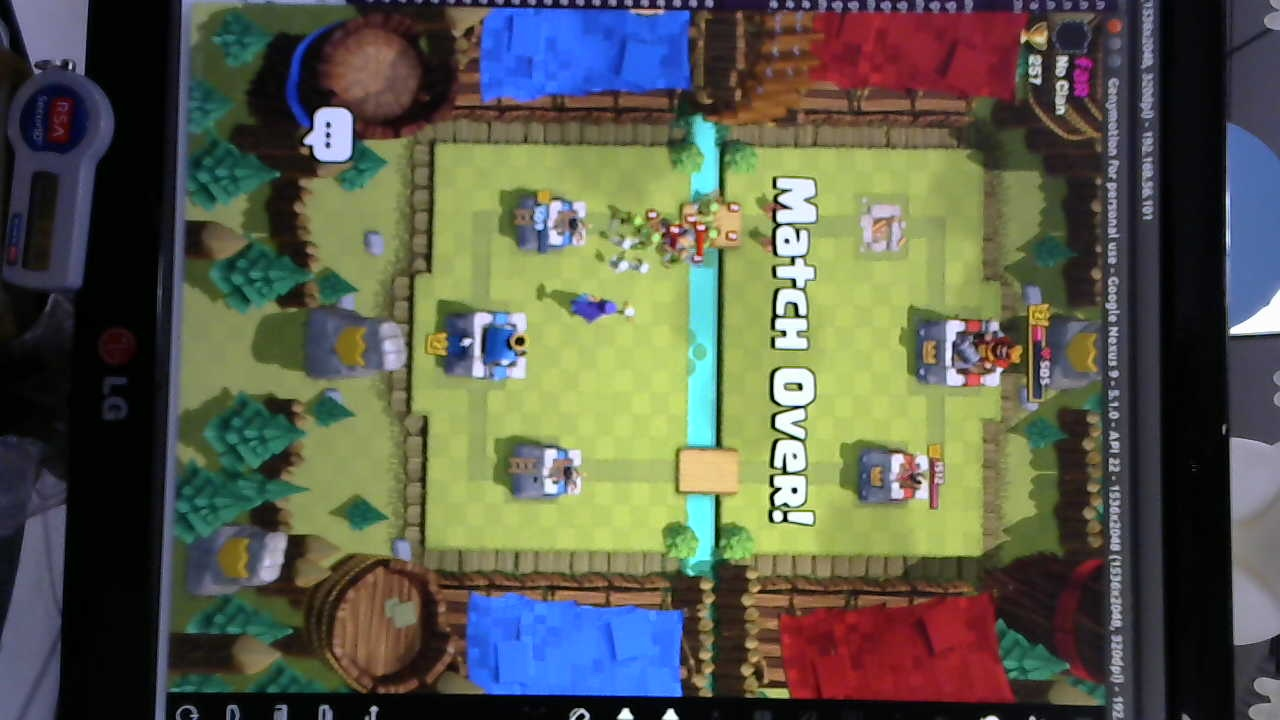arena: (507, 440, 589, 506), (511, 190, 591, 256)
darena: (847, 191, 909, 260)
earena: (857, 442, 942, 506)
eking: (912, 311, 1017, 389)
king: (440, 305, 532, 382)
knight: (658, 223, 699, 259)
skeleton: (614, 236, 650, 278)
speargoblins: (624, 195, 726, 250)
witch: (568, 288, 635, 329)
